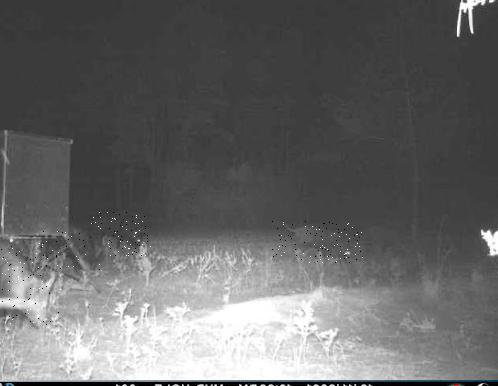Hog: (0, 241, 61, 325), (272, 221, 363, 263), (40, 230, 106, 273), (90, 212, 151, 256)
